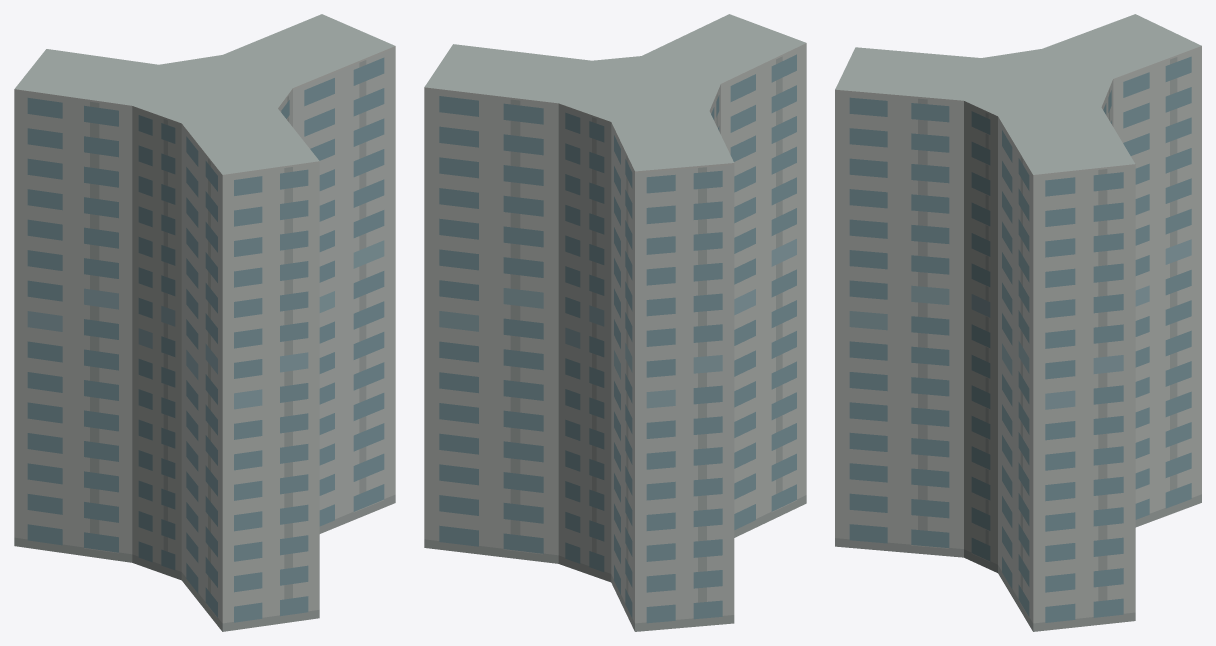
File: residential-ca95c8c7-82da-4dd0-86b9-382dbfdbfe09.glb
The picture shows the model from 3 angles, left to right: view 1: azimuth 30°, elevation 25°; view 2: azimuth 150°, elevation 25°; view 3: azimuth 270°, elevation 25°; orthographic projection.
Visible parts, largest first — view 1: residential-ca95c8c7-82da-4dd0-86b9-382dbfdbfe09.tmp; view 2: residential-ca95c8c7-82da-4dd0-86b9-382dbfdbfe09.tmp; view 3: residential-ca95c8c7-82da-4dd0-86b9-382dbfdbfe09.tmp.
Boxes of the visible parts, x1=… form: residential-ca95c8c7-82da-4dd0-86b9-382dbfdbfe09.tmp: x1=14, y1=14, x2=395, y2=631; residential-ca95c8c7-82da-4dd0-86b9-382dbfdbfe09.tmp: x1=424, y1=14, x2=806, y2=631; residential-ca95c8c7-82da-4dd0-86b9-382dbfdbfe09.tmp: x1=835, y1=14, x2=1201, y2=631.
Size of the model in its own units: 46.12 by 61 by 44.4.
